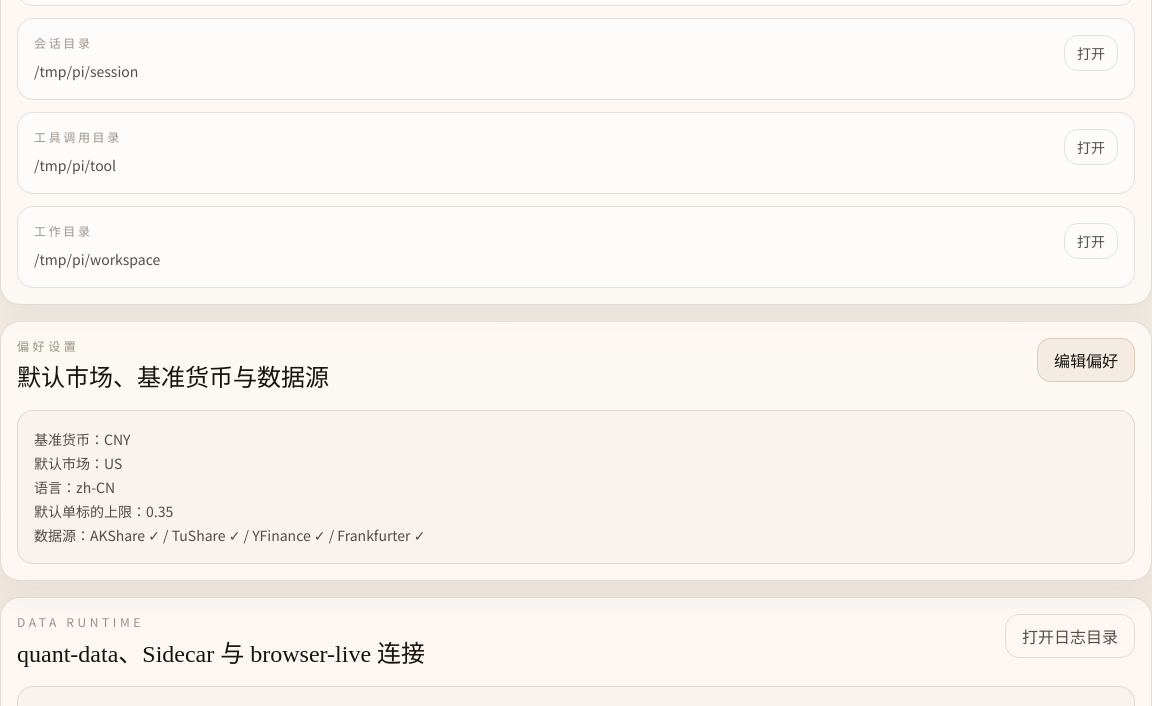
Test: SettingsPage › 打开偏好编辑弹窗后保存会关闭弹窗
(page scrolled)
Click the button with test id "settings-open-preferences-modal" at x=1086, y=360, box [1037, 338, 1135, 382]
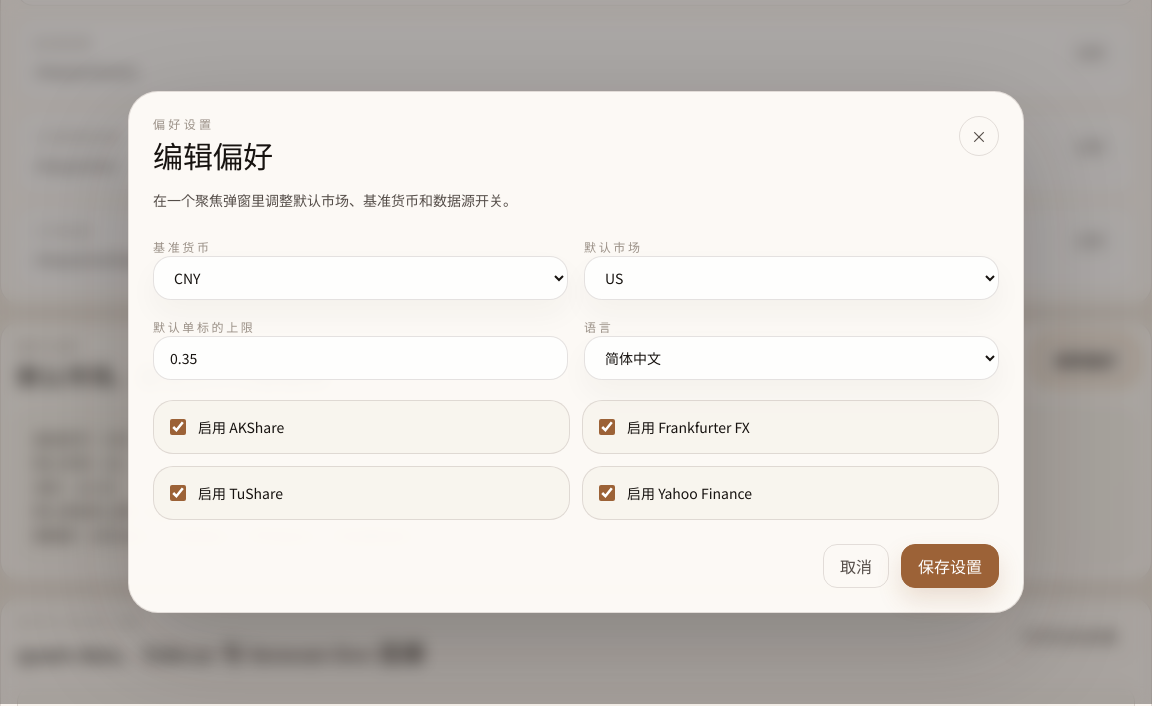
Check: the element with test id "settings-preferences-modal" is shown, box [153, 236, 999, 520]
Select "USD" in the dropdown with test id "settings-base-currency-select" at x=360, y=278, box [153, 256, 568, 300]
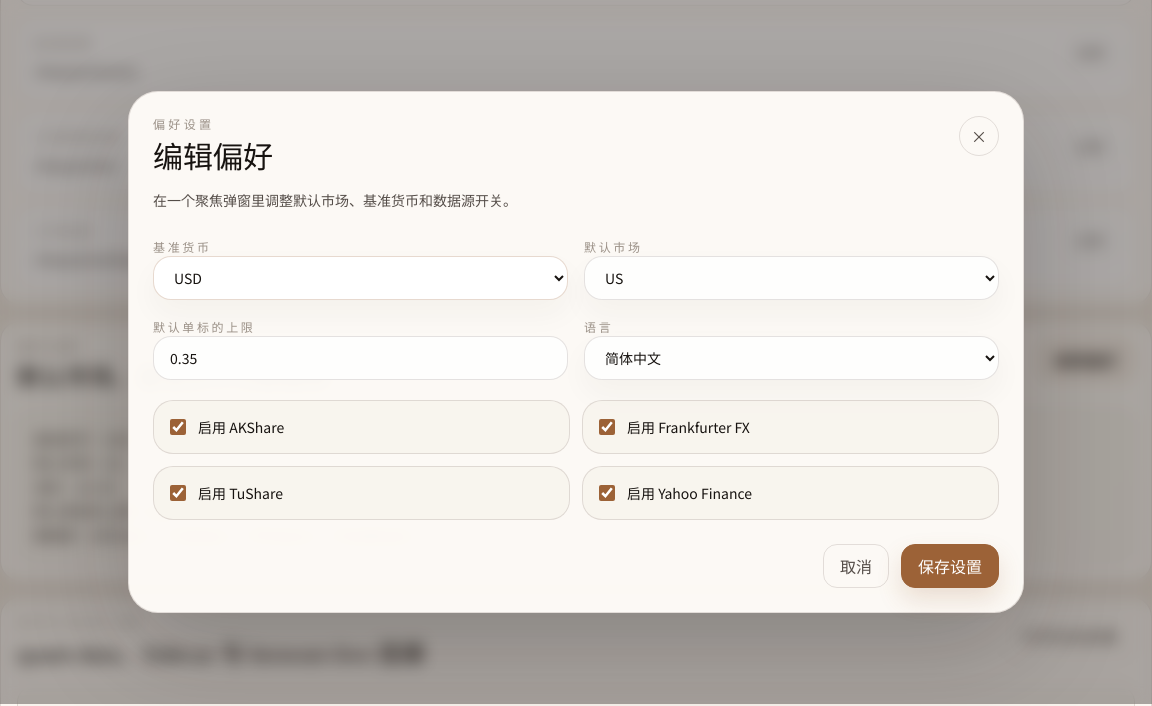
Click the button with test id "settings-save-preferences" at x=950, y=566, box [901, 544, 999, 588]
(page scrolled)
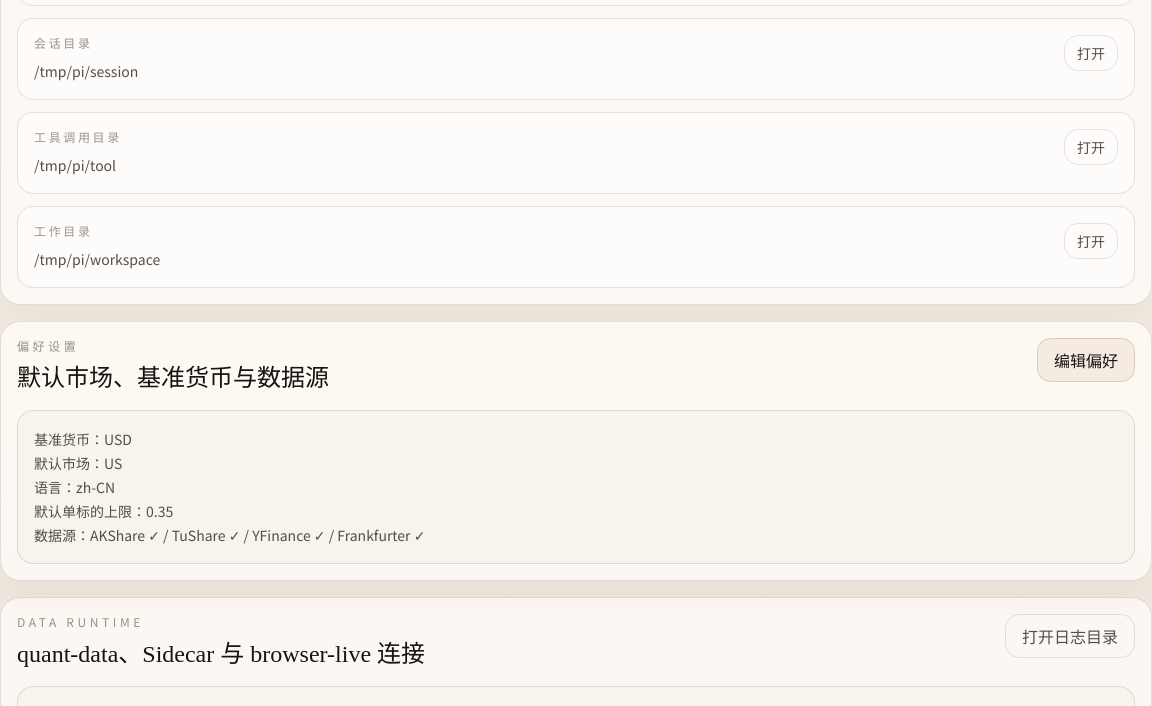
Check: the element with test id "settings-preferences-modal" is gone
